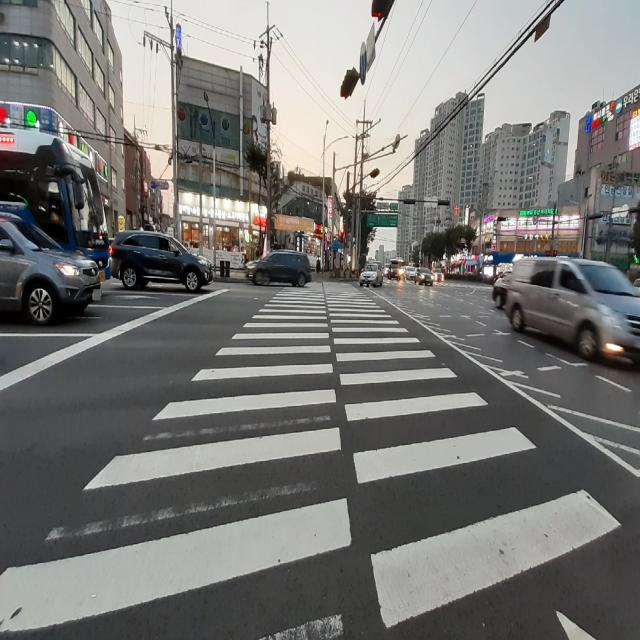횡단보도: (0, 282, 622, 640)
